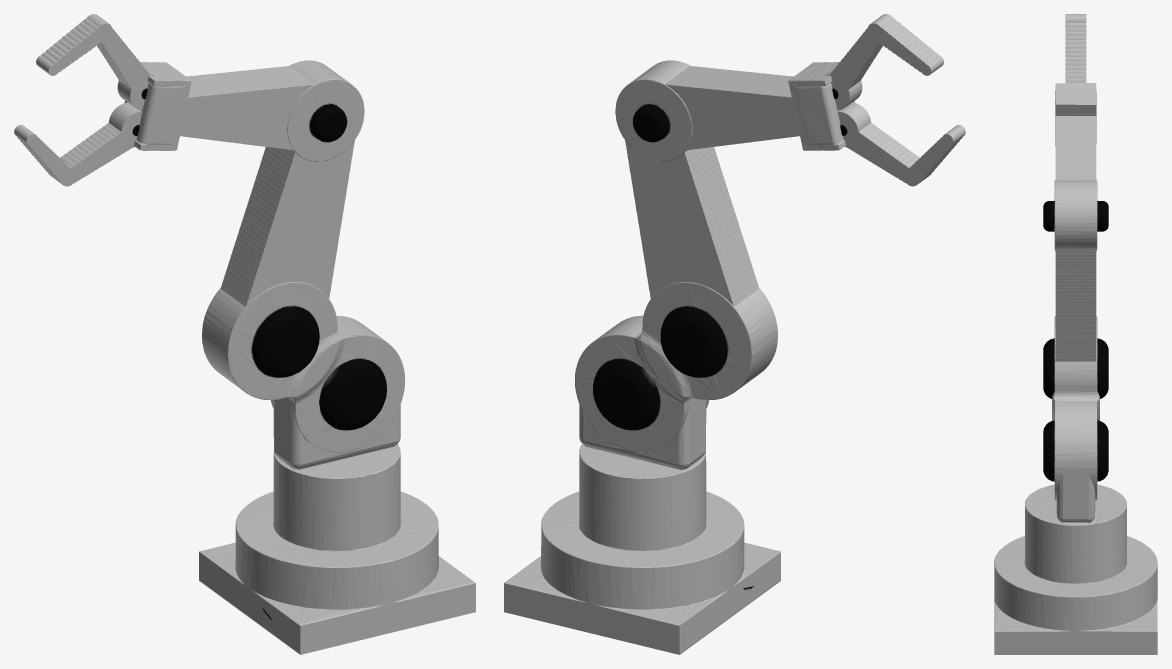
Rendered from roboterarm.obj.
3 renders of one model, left to right at view 1: azimuth 30°, elevation 25°; view 2: azimuth 150°, elevation 25°; view 3: azimuth 270°, elevation 25°, orthographic. The views are drawn at different scales.
Visible parts, largest first — view 1: 283353_23_05_25_12_27_14_0, 283353_23_05_25_12_27_14_1, 283353_23_05_25_12_27_14_3; view 2: 283353_23_05_25_12_27_14_0, 283353_23_05_25_12_27_14_1, 283353_23_05_25_12_27_14_3; view 3: 283353_23_05_25_12_27_14_0, 283353_23_05_25_12_27_14_1.
Part boxes in pixels (x1,y1,x2,y2): 283353_23_05_25_12_27_14_0: (124,60,475,654); 283353_23_05_25_12_27_14_1: (14,14,354,306); 283353_23_05_25_12_27_14_3: (108,102,142,147); 283353_23_05_25_12_27_14_0: (504,60,855,654); 283353_23_05_25_12_27_14_1: (625,14,965,306); 283353_23_05_25_12_27_14_3: (838,102,871,146); 283353_23_05_25_12_27_14_0: (994,83,1157,654); 283353_23_05_25_12_27_14_1: (1055,14,1096,361).
Size of the model in its own units: 7.36 by 11.06 by 3.2.
Materials: 4 (4 with a texture image).
